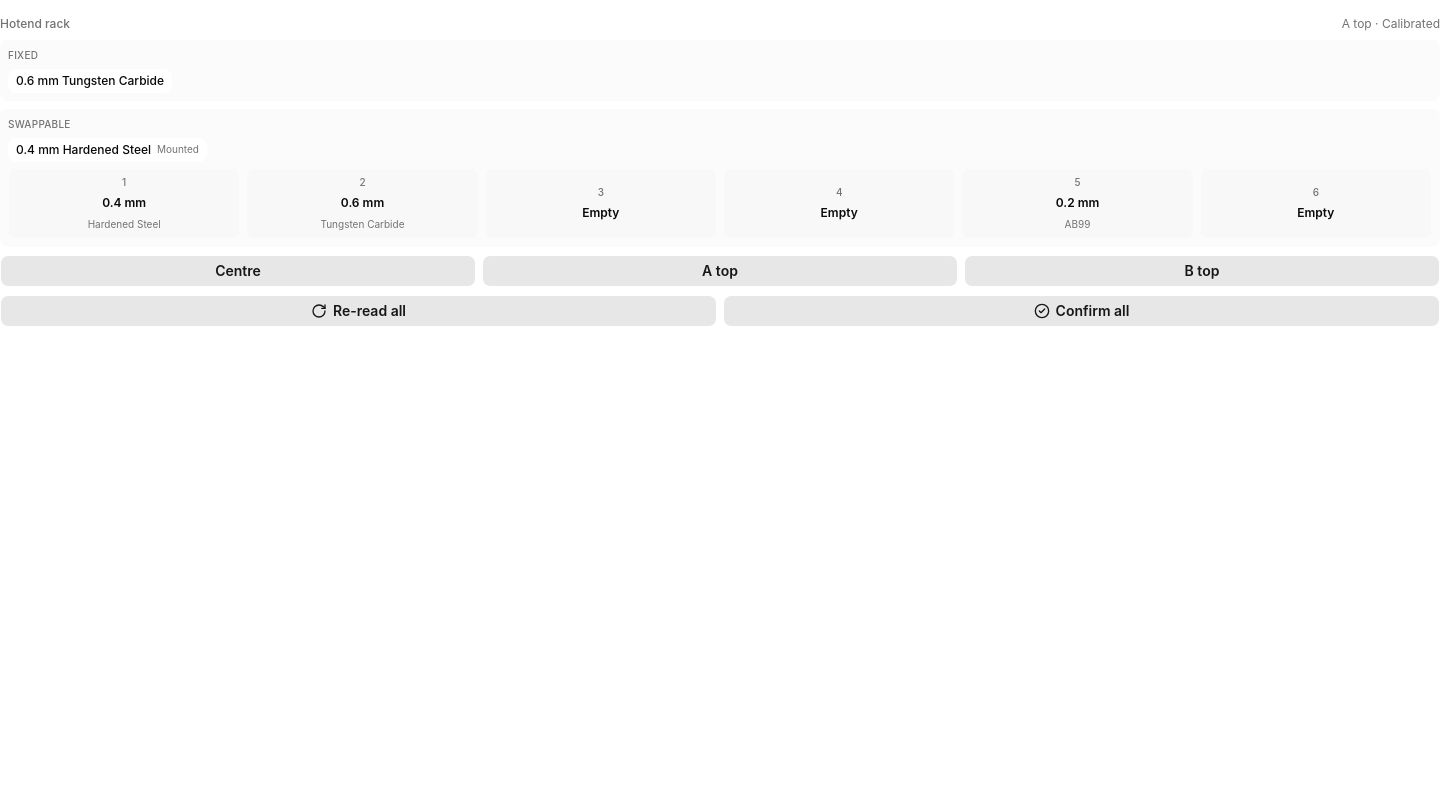
Test case: PrinterRackPanel › offers per-slot re-read and confirm forms for occupied slots
Click the button with aria-label "Rack slot 2, 0.6 mm Tungsten Carbide": click(362, 203) [246,168,479,239]
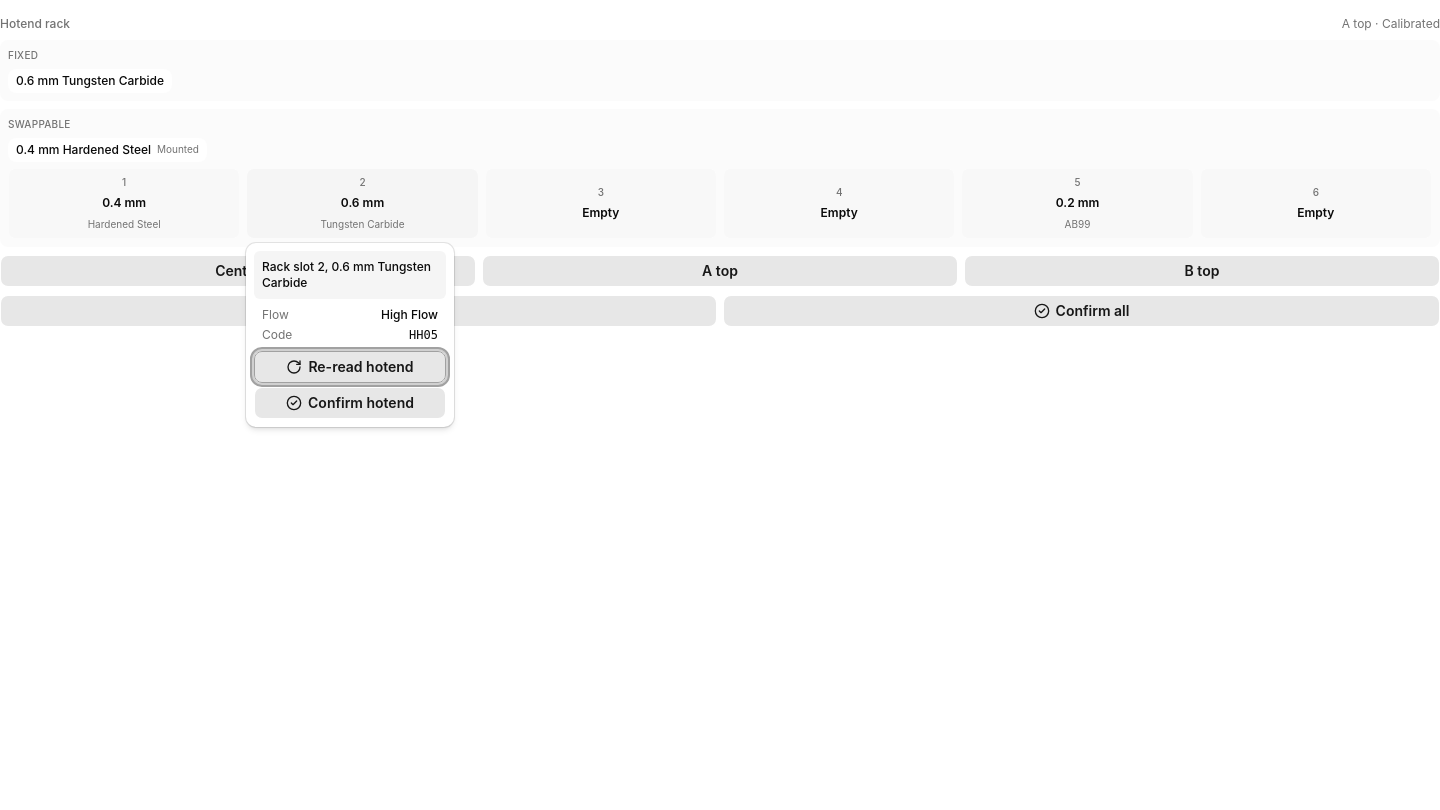
expect the text "High Flow" is shown: met, box [381,307,438,323]
expect the form named "action" holds "holder_nozzle_refresh": met, box [254,351,446,383]
expect the form named "nozzle_id" holds "17": met, box [254,351,446,383]
